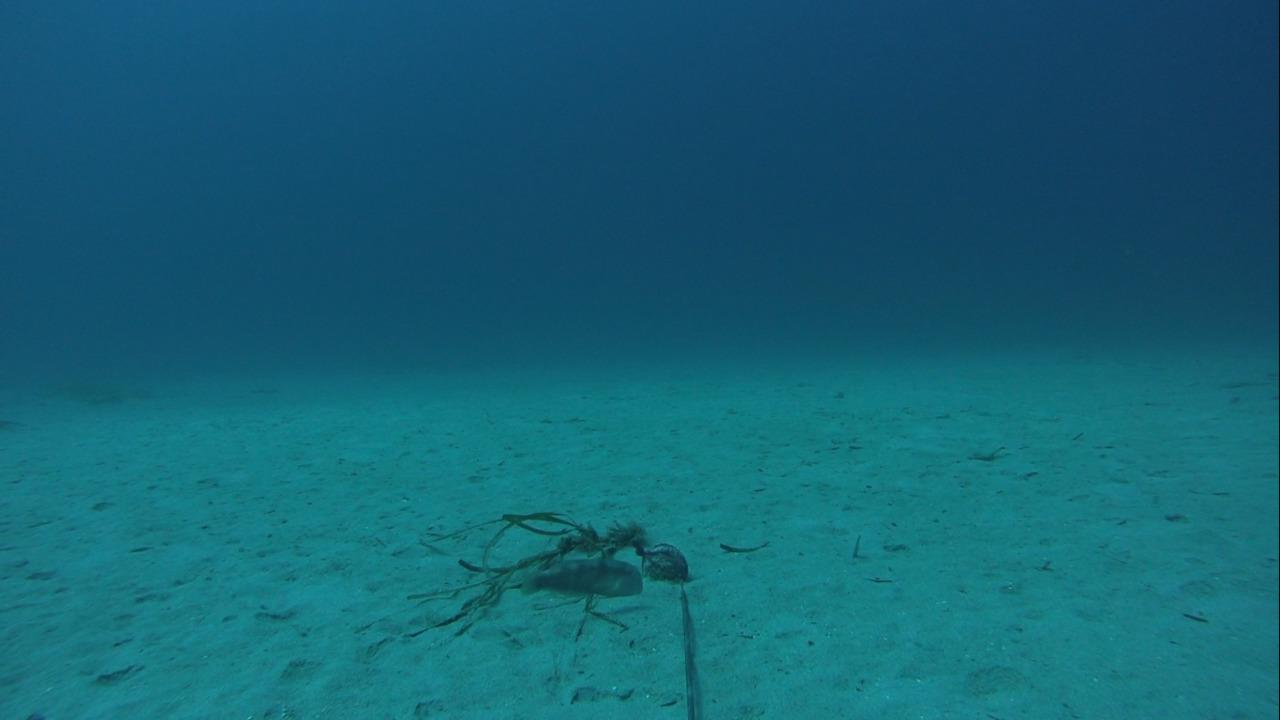raor: (519, 556, 646, 603)
